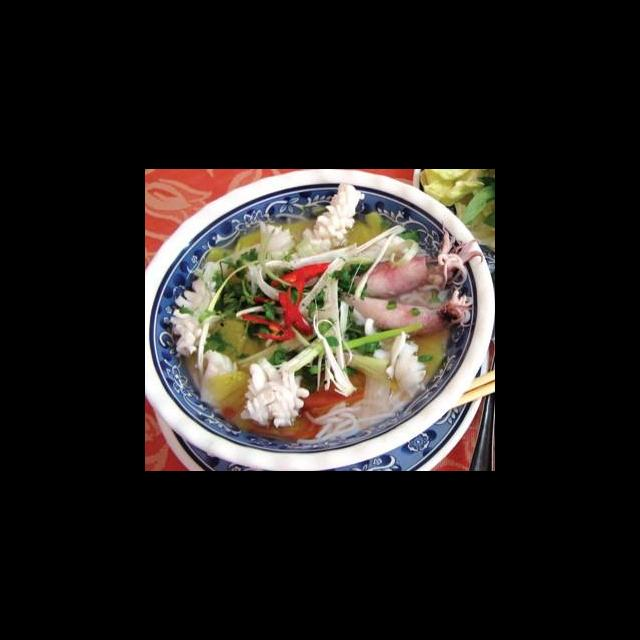bun: (293, 386, 417, 445)
muc: (324, 216, 486, 301), (331, 285, 480, 336), (282, 179, 367, 264), (165, 256, 230, 360), (235, 353, 312, 431), (381, 326, 431, 399), (191, 346, 242, 412)
